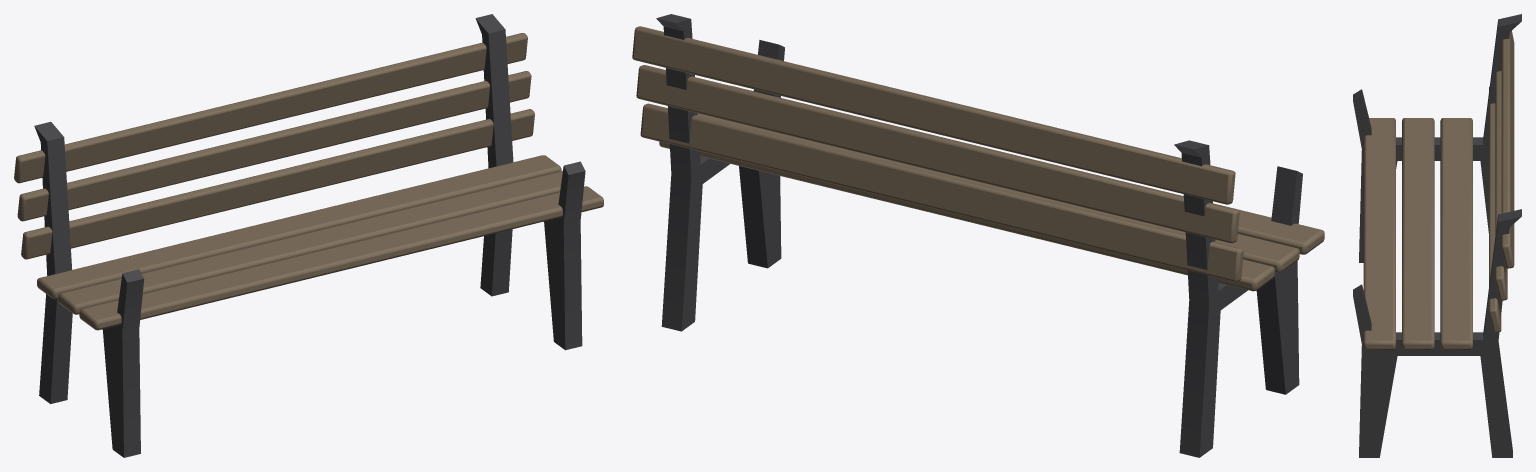
The model's file is bench.glb.
3 views of the same model, side by side, from view 1: azimuth 30°, elevation 25°; view 2: azimuth 150°, elevation 25°; view 3: azimuth 270°, elevation 25° (orthographic). The views are drawn at different scales.
Visible parts, largest first — view 1: bench; view 2: bench; view 3: bench.
Part boxes in pixels (box(x1,y1,x2,y2)): bench: box(14, 14, 603, 457); bench: box(632, 14, 1324, 457); bench: box(1353, 14, 1521, 457).
Size of the model in its own units: 1.8 by 0.9 by 0.57.
